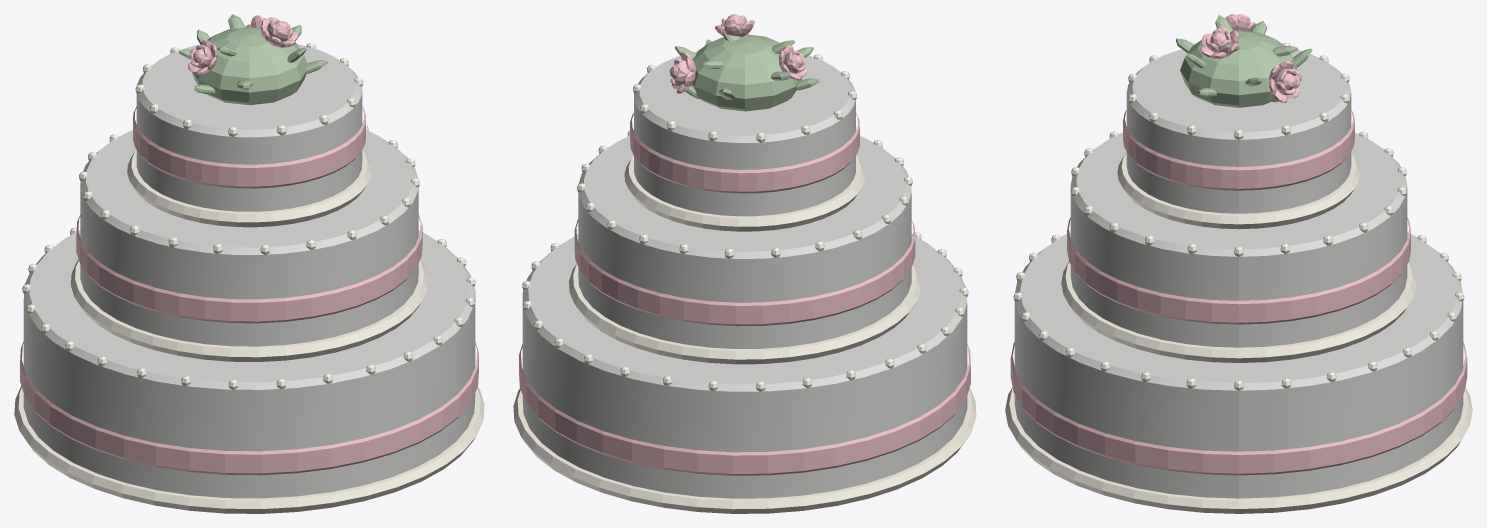
Rendered from wedding-and-chapel-kit-tiered-wedding-cake-78aca6d7__39398.glb.
3 renders of one model, left to right at view 1: azimuth 30°, elevation 25°; view 2: azimuth 150°, elevation 25°; view 3: azimuth 270°, elevation 25°, orthographic.
Visible parts, largest first — view 1: tiered-wedding-cake; view 2: tiered-wedding-cake; view 3: tiered-wedding-cake.
Part boxes in pixels (left/top/right/bottom): tiered-wedding-cake: left=14, top=14, right=484, bottom=513; tiered-wedding-cake: left=513, top=14, right=976, bottom=513; tiered-wedding-cake: left=1005, top=14, right=1472, bottom=513.
Size of the model in its own units: 0.5 by 0.4666 by 0.5.
